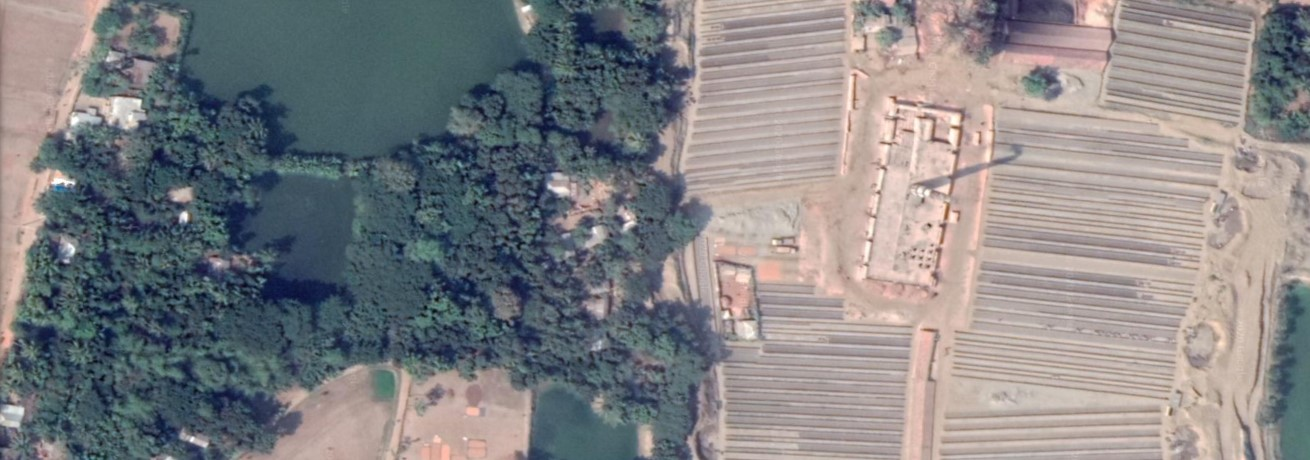kiln: (860, 94, 979, 307)
